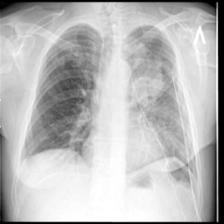tuberculosis: (13, 15, 206, 214)
